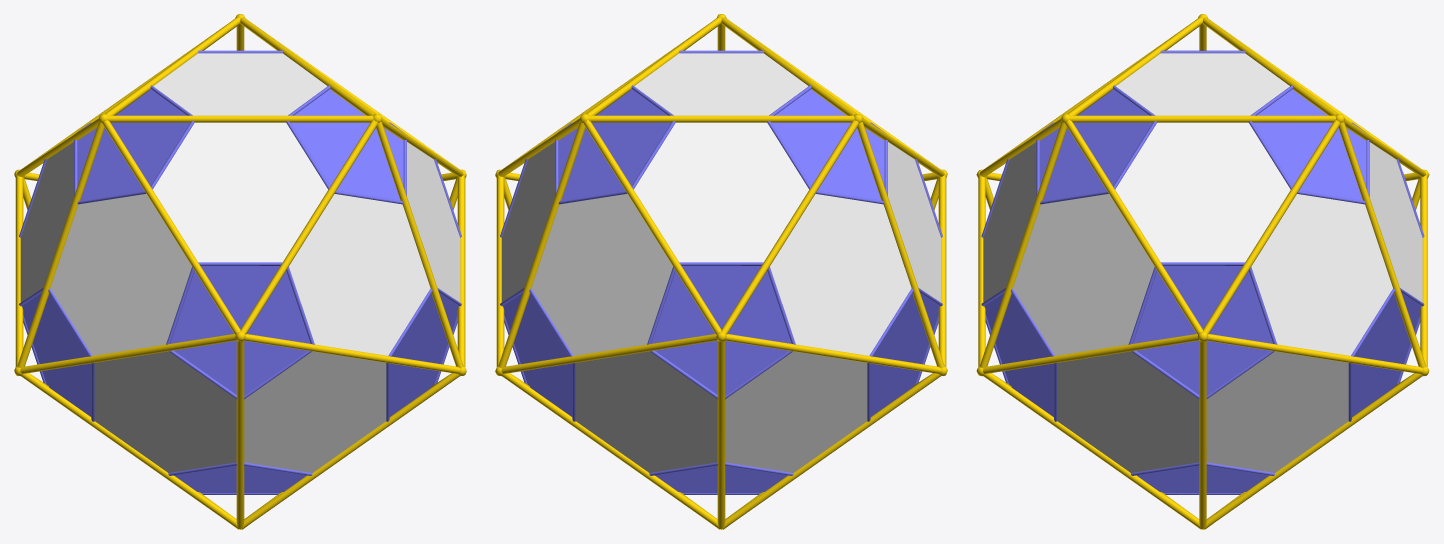
File: football.dae
The picture shows the model from 3 angles, left to right: view 1: azimuth 30°, elevation 25°; view 2: azimuth 150°, elevation 25°; view 3: azimuth 270°, elevation 25°; orthographic projection.
Visible parts, largest first — view 1: poly28, poly19, poly29, poly20, poly30, poly12, poly16, poly6, poly8, poly18, poly27, poly4 (+18 smaller); view 2: poly17, poly15, poly18, poly22, poly23, poly11, poly16, poly8, poly9, poly14, poly19, poly7 (+18 smaller); view 3: poly13, poly14, poly27, poly25, poly26, poly5, poly16, poly6, poly9, poly15, poly29, poly4 (+18 smaller).
Boxes of the visible parts, box(x1,y1,x2,y2) form: poly28: box(152, 122, 328, 262); poly19: box(50, 194, 191, 355); poly29: box(289, 194, 430, 355); poly20: box(94, 351, 236, 472); poly30: box(244, 351, 386, 472); poly12: box(170, 266, 310, 394); poly16: box(153, 53, 327, 115); poly6: box(291, 89, 403, 200); poly8: box(77, 89, 189, 200); poly18: box(20, 142, 73, 302); poly27: box(407, 142, 460, 302); poly4: box(389, 293, 458, 416); poly17: box(633, 122, 809, 262); poly15: box(531, 194, 672, 355); poly18: box(770, 194, 911, 355); poly22: box(725, 351, 867, 472); poly23: box(575, 351, 717, 472); poly11: box(651, 266, 791, 394); poly16: box(634, 53, 808, 115); poly8: box(772, 89, 884, 200); poly9: box(558, 89, 670, 200); poly14: box(501, 142, 554, 302); poly19: box(888, 142, 941, 302); poly7: box(870, 293, 939, 416); poly13: box(1115, 122, 1290, 262); poly14: box(1251, 194, 1392, 355); poly27: box(1013, 194, 1154, 355); poly25: box(1206, 351, 1348, 472); poly26: box(1057, 351, 1199, 472); poly5: box(1132, 266, 1273, 394); poly16: box(1116, 53, 1289, 115); poly6: box(1039, 89, 1152, 200); poly9: box(1253, 89, 1366, 200); poly15: box(1369, 142, 1422, 302); poly29: box(983, 142, 1036, 302); poly4: box(984, 293, 1053, 416).
Size of what is drawn, in the model's own units: 3.31 by 2.87 by 2.68.
